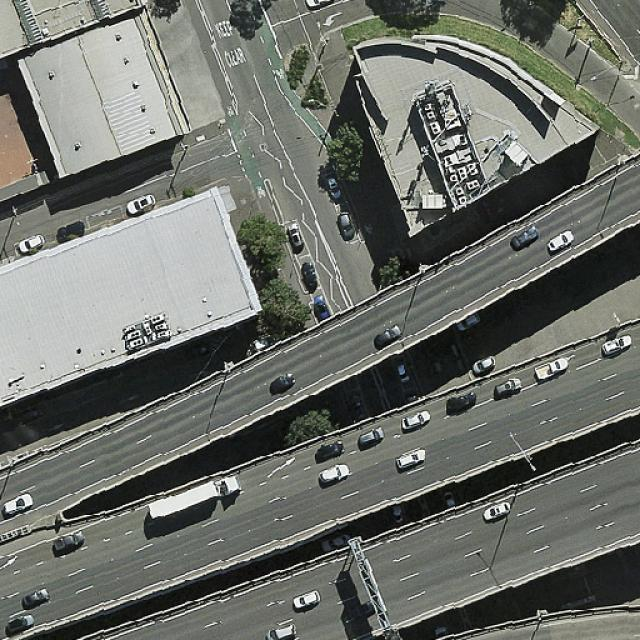Bike-Symbols: (255, 185, 267, 199), (275, 68, 285, 79)
